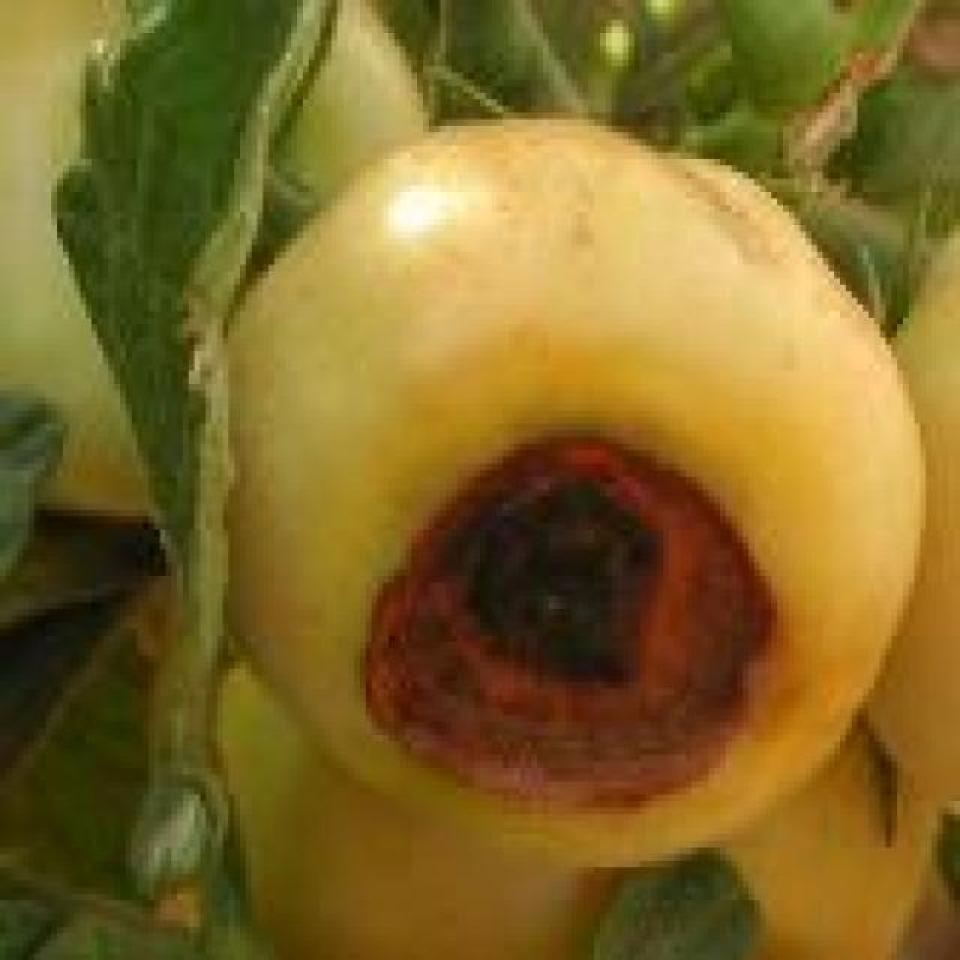Blossom_end_rot: (325, 374, 850, 802)
